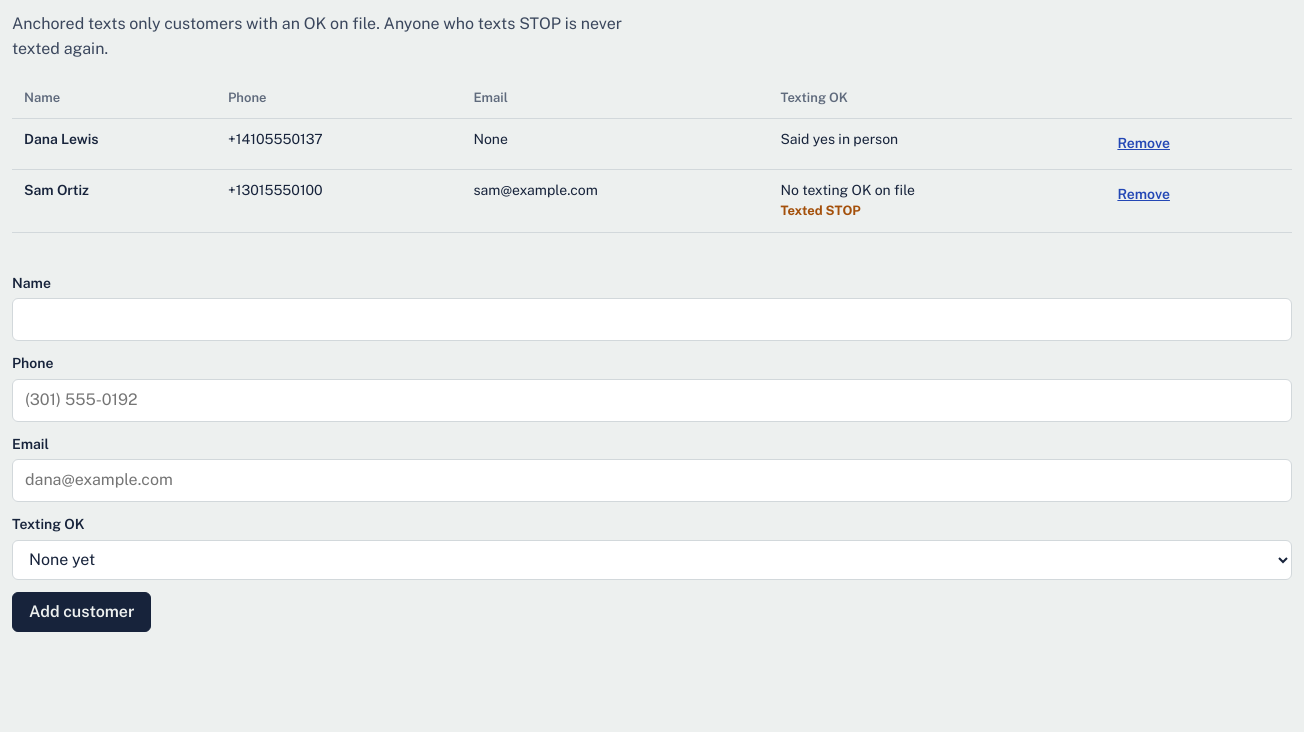
Test case: ContactsList › removes a customer
Click the button with aria-label "Remove Dana Lewis" at (1144,144), box [1108,129,1179,159]
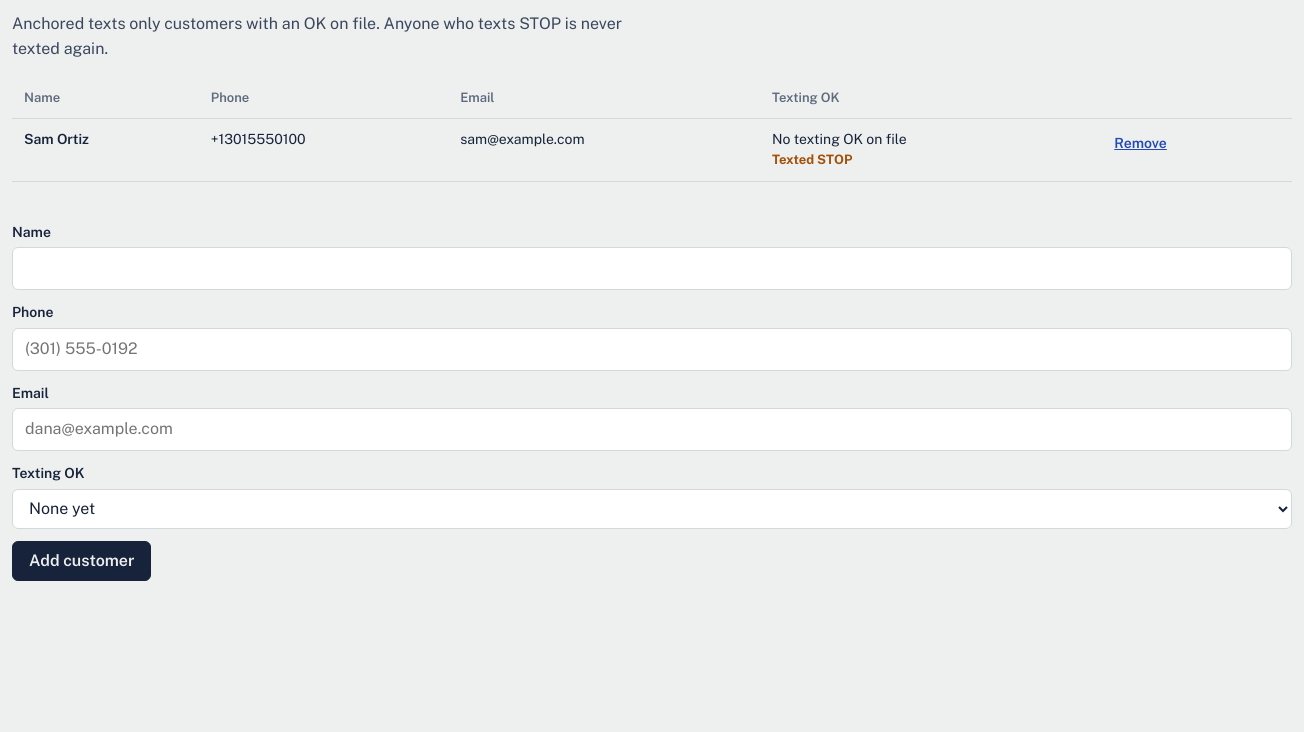
Check: the column heading "Dana Lewis" is gone
